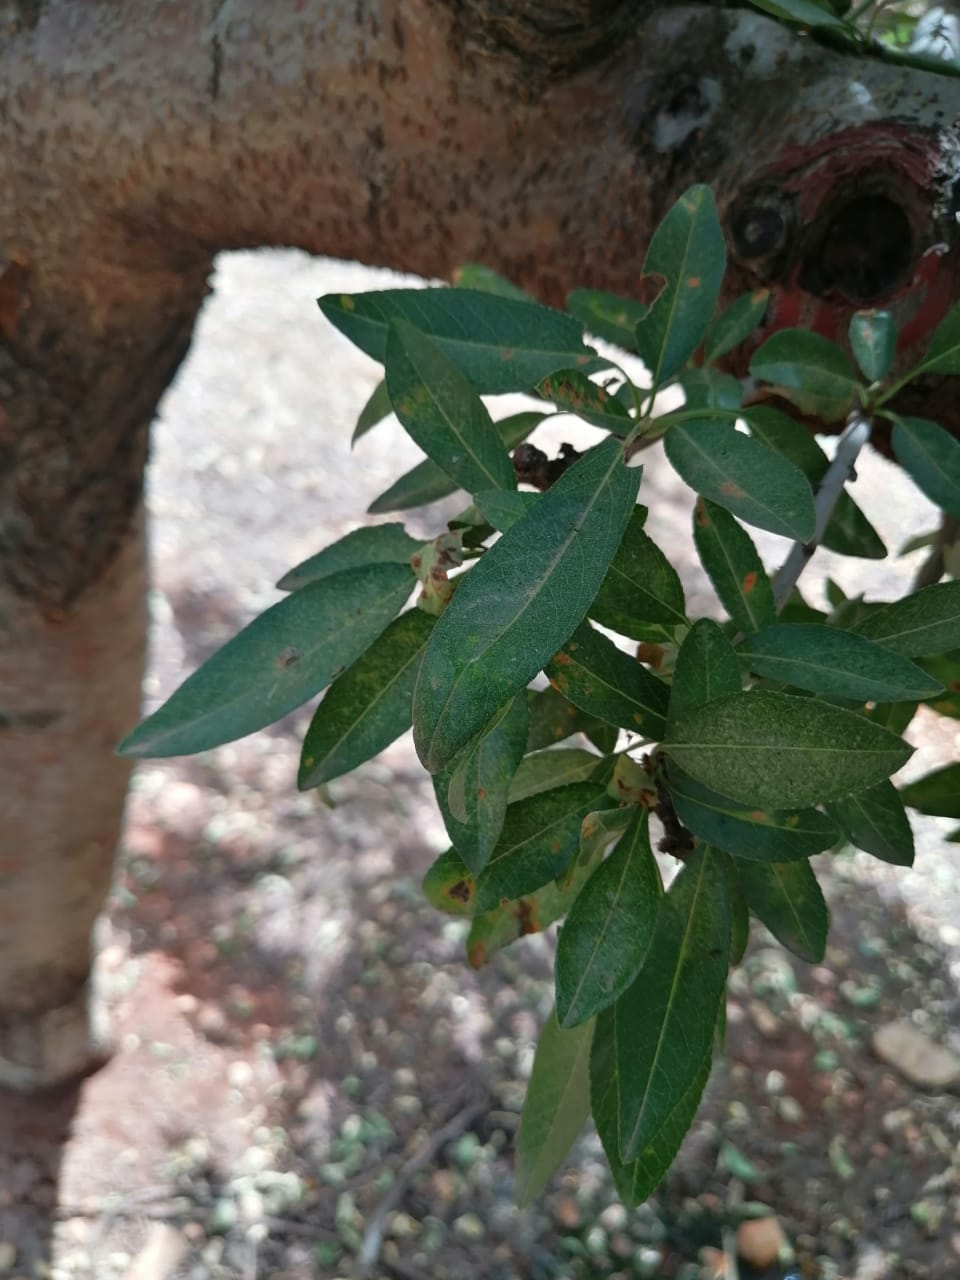acariens: (411, 438, 642, 776), (664, 690, 918, 804), (552, 819, 659, 1031)
